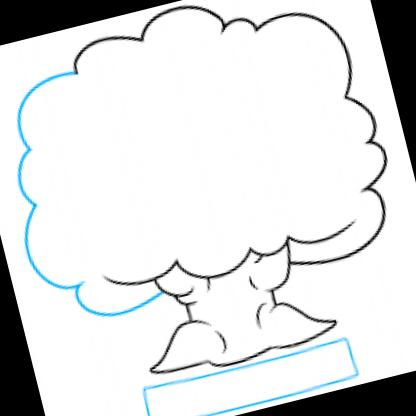crown_cloud: (0, 0, 414, 333)
root_only: (132, 282, 348, 390)
trunk_straight: (170, 270, 298, 332)
